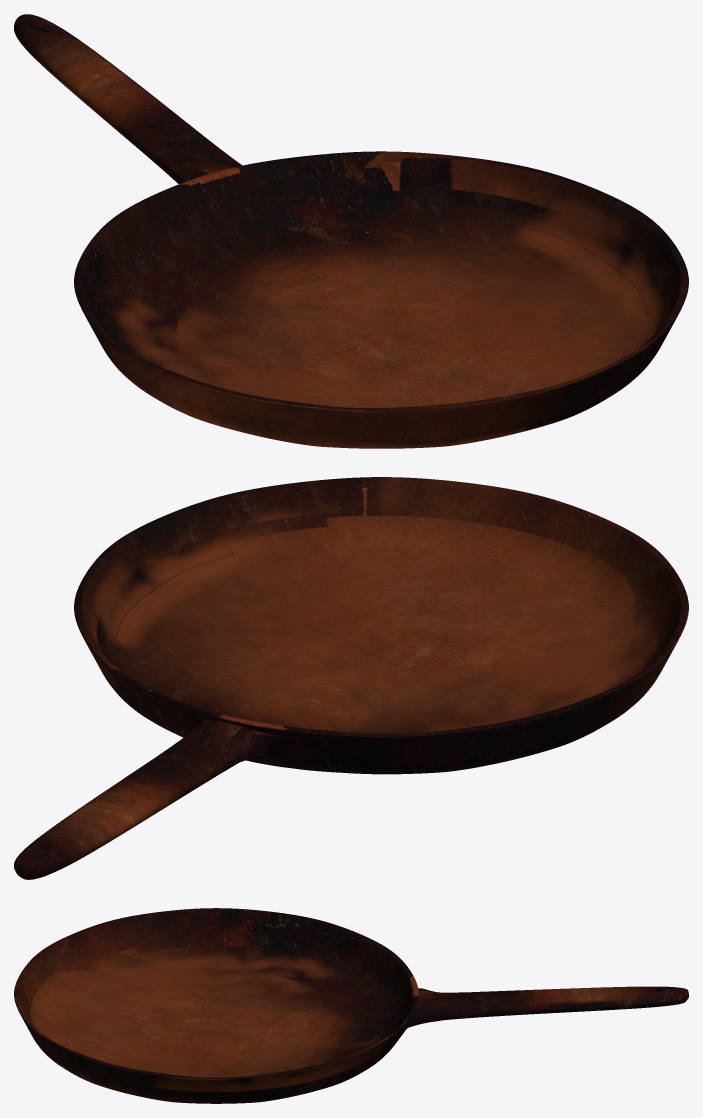
File: textured pan.fbx
The picture shows the model from 3 angles, top to bottom: view 1: azimuth 30°, elevation 25°; view 2: azimuth 150°, elevation 25°; view 3: azimuth 270°, elevation 25°; orthographic projection. The views are drawn at different scales.
Visible parts, largest first — view 1: polySurface1; view 2: polySurface1; view 3: polySurface1.
Boxes of the visible parts, box(x1,y1,x2,y2) form: polySurface1: box(14, 14, 688, 448); polySurface1: box(14, 477, 688, 879); polySurface1: box(14, 908, 688, 1103).
Bounding box in the file's own units: 2.2 × 0.2824 × 3.67.
Materials: 1 (1 with a texture image).
